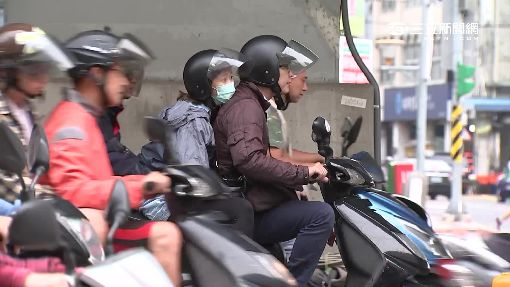helmet: (59, 32, 148, 78), (239, 39, 303, 88), (180, 52, 236, 93), (3, 27, 55, 67)
